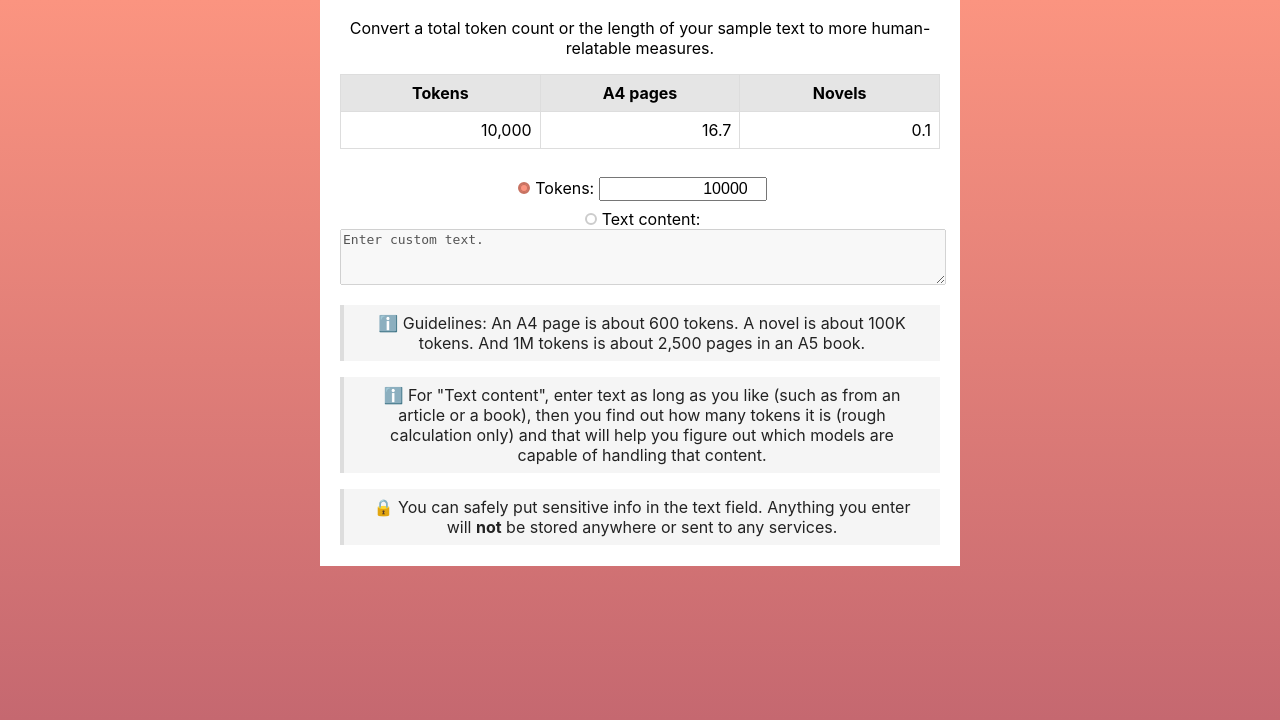
Scenario: ConvertInput Component › submits large text input and displays results
The width and height of the screenshot is (1280, 720).
Click the radio button with test id "radio-text".
click(591, 219)  # box x1=585 y1=213 x2=597 y2=225
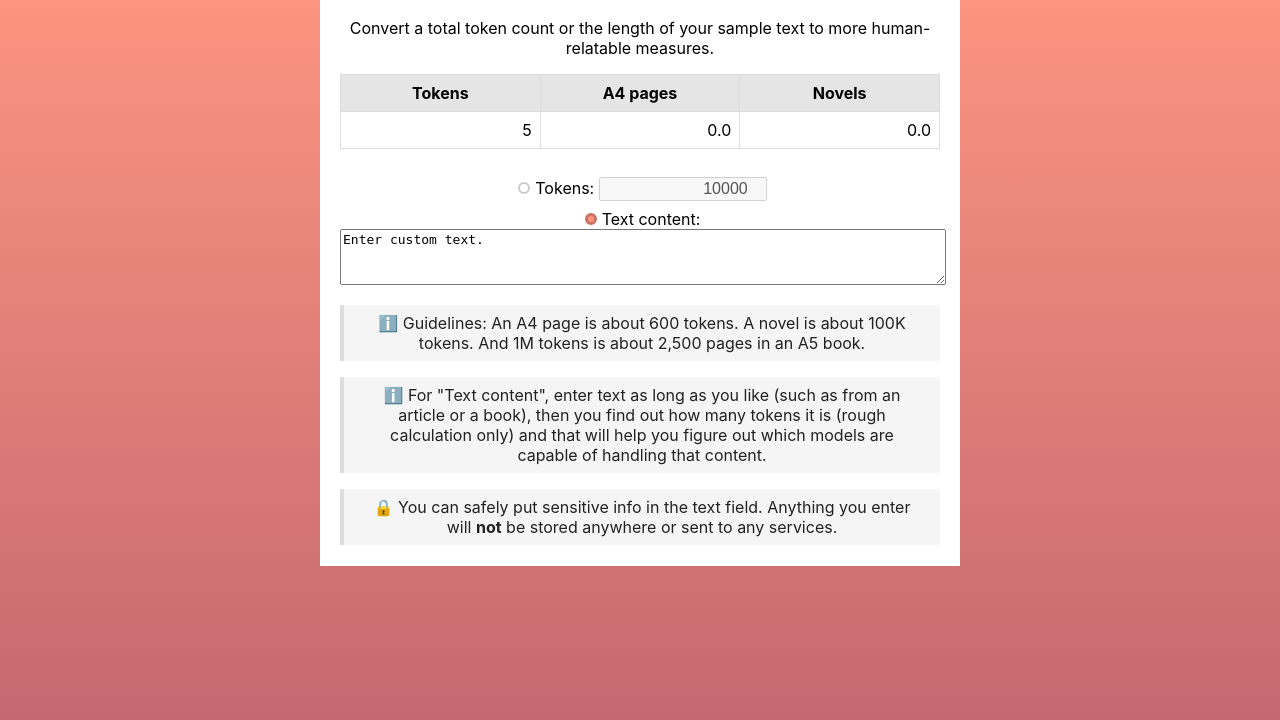
Replace the text in the text box with test id "user-input-text" with "Sample text sample text sample text sample text sample text sample text sample text sample text sample text sample text sample text sample text sample text sample text sample text sample text sample t" at (643, 257), box x1=340 y1=229 x2=946 y2=285
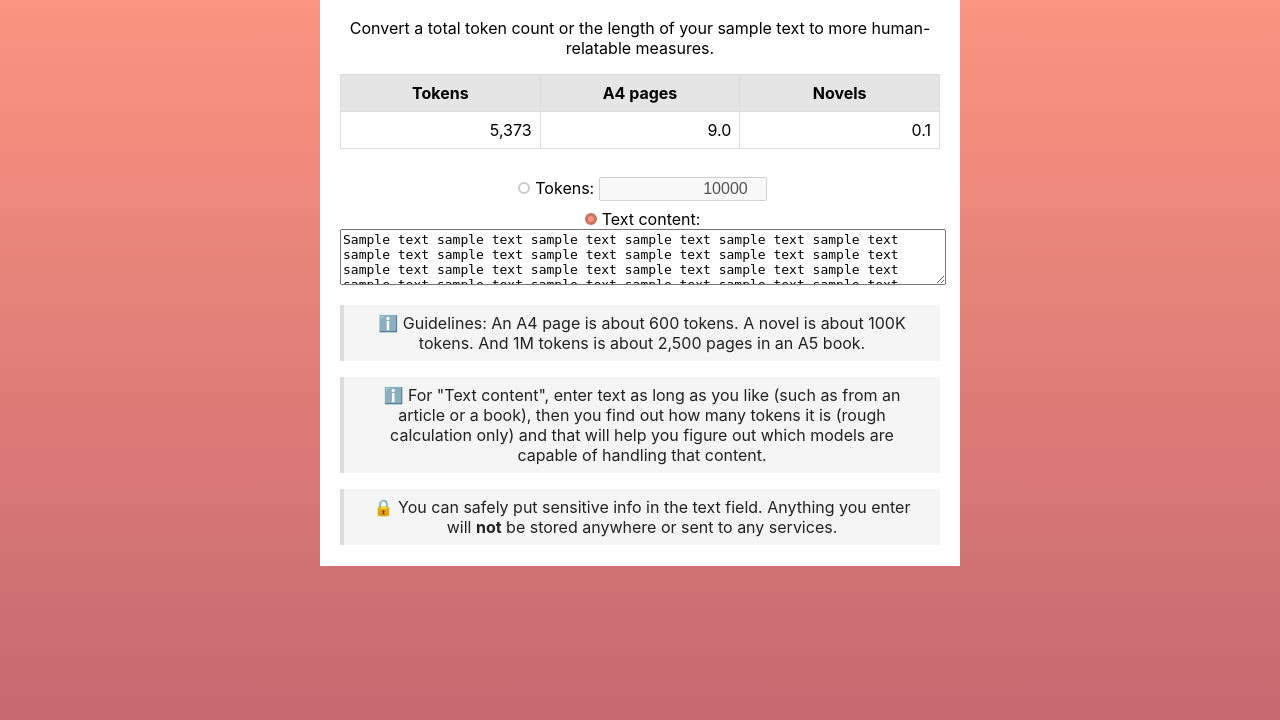
Expected: the cell with test id "user-table-tokens" reads "5,373", x1=490 y1=120 x2=532 y2=140
Expected: the cell with test id "user-table-page-count" reads "9.0", x1=708 y1=120 x2=731 y2=140
Expected: the cell with test id "user-table-novel-count" reads "0.1", x1=912 y1=120 x2=931 y2=140
